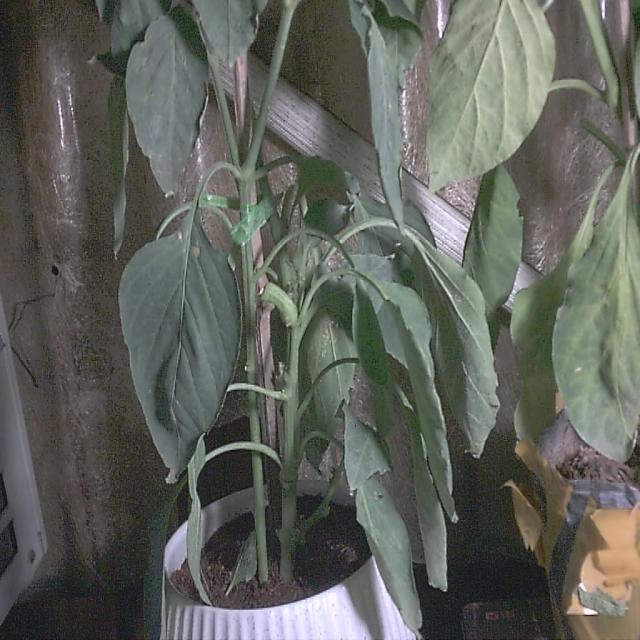Leaf: (120, 217, 240, 479), (510, 167, 612, 440), (552, 150, 639, 461), (428, 0, 554, 190), (126, 14, 207, 194), (463, 165, 522, 345), (356, 479, 421, 632), (194, 0, 266, 64), (344, 405, 390, 490), (109, 75, 128, 254)
